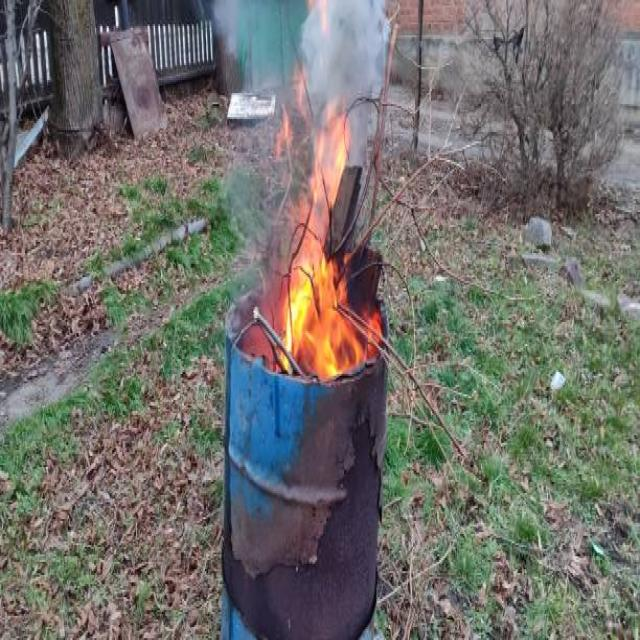fire: (242, 253, 382, 382), (286, 101, 351, 258)
